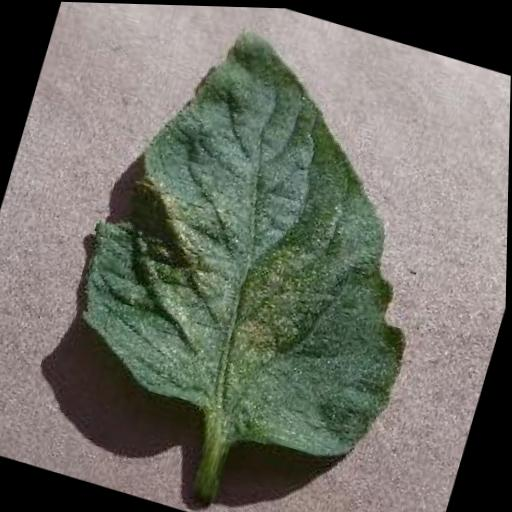Spider Mites: (48, 1, 478, 475)
